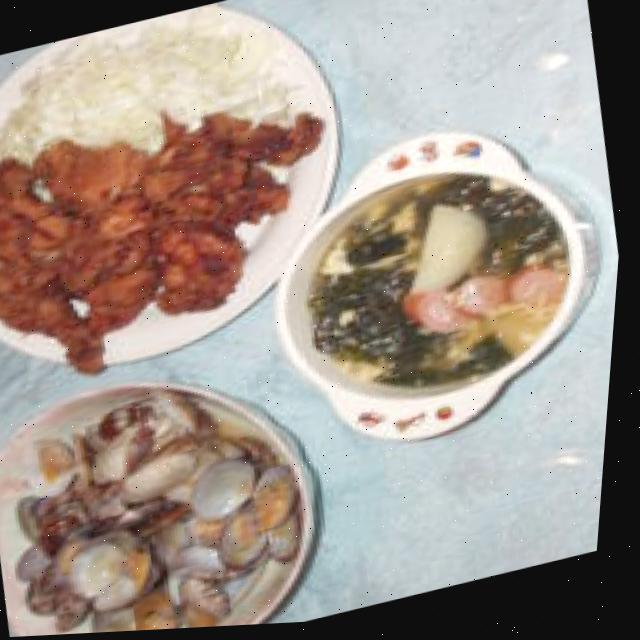鸡肉料理 含炸鸡: (0, 40, 436, 418)
